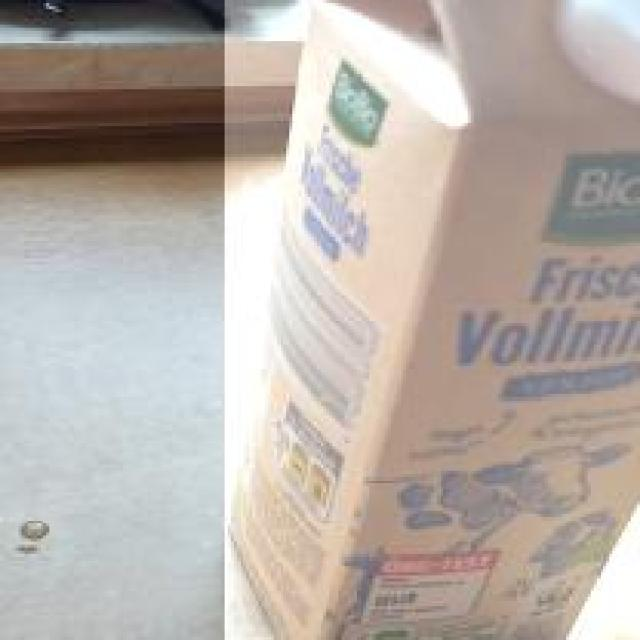milk: (224, 0, 640, 640)
